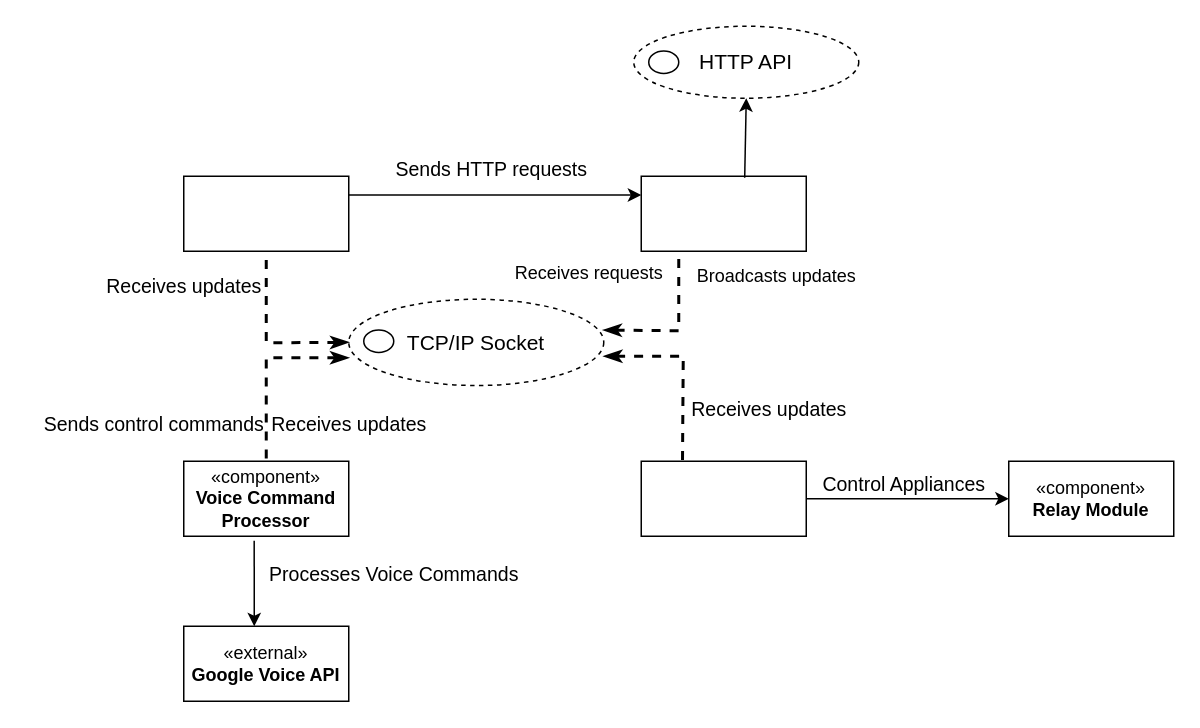
Some shapes in this 1200 by 728 pixel diagram are drawn without their labels. Each missing label, with the centre of its shape:
«component» ESP32 Microcontroller: the point at 723,498
«component» Flask Server: the point at 723,213
«component» Web Dashboard: the point at 265,213
